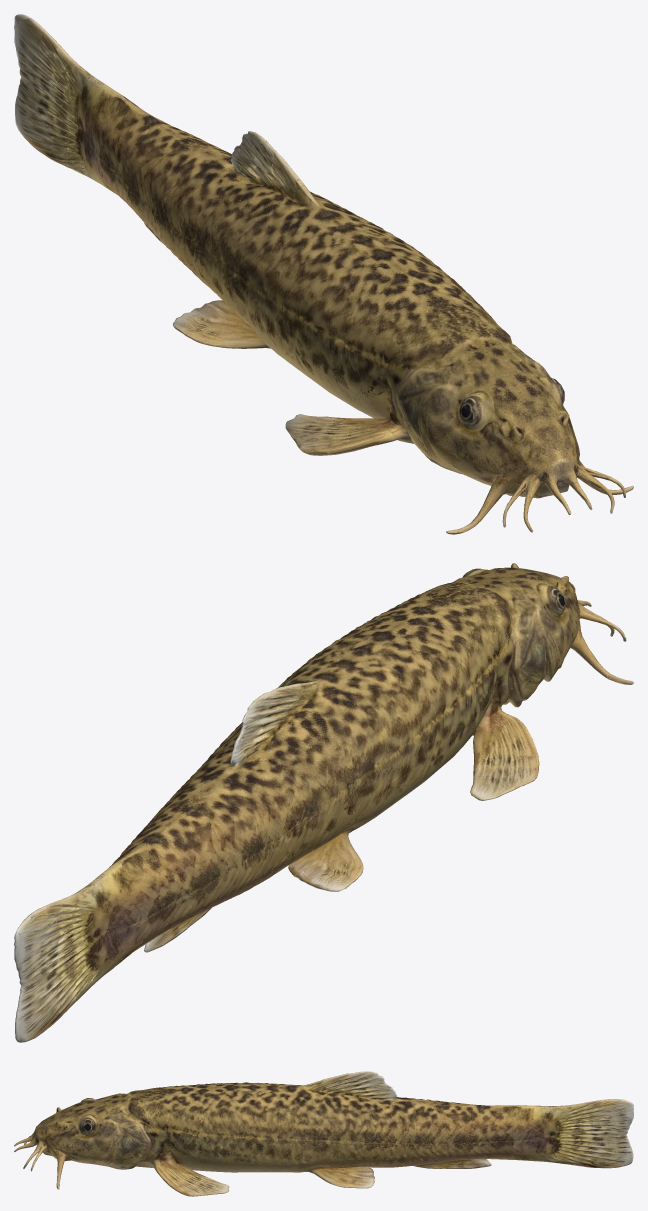
The model's file is sliz.glb.
3 renders of one model, top to bottom at view 1: azimuth 30°, elevation 25°; view 2: azimuth 150°, elevation 25°; view 3: azimuth 270°, elevation 25°, orthographic. The views are drawn at different scales.
Visible parts, largest first — view 1: Mesh_0; view 2: Mesh_0; view 3: Mesh_0.
Part boxes in pixels (x1,y1,x2,y2): Mesh_0: (14,14,633,534); Mesh_0: (14,563,633,1042); Mesh_0: (14,1071,633,1196).
Size of the model in its own units: 0.4511 by 0.3301 by 1.9.
1 material, 1 textured.
